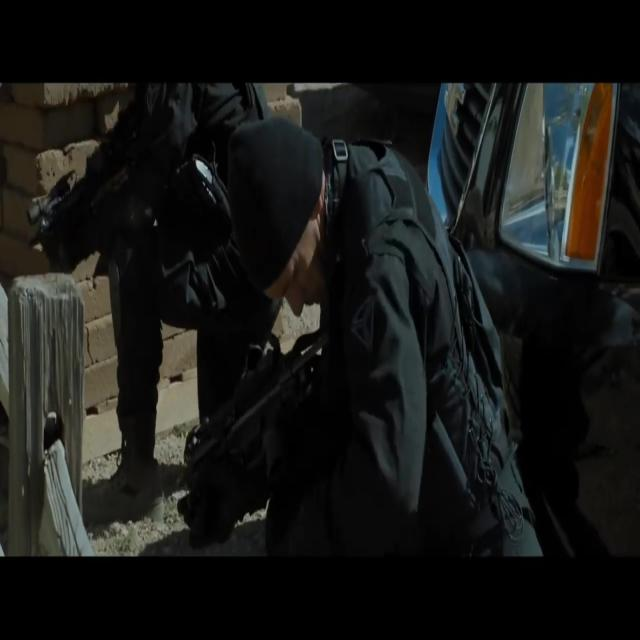Weapon: (13, 89, 305, 265), (169, 325, 386, 505)
